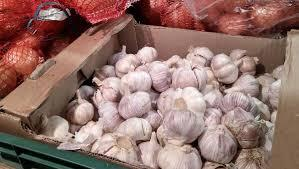garlic: (95, 36, 265, 169)
